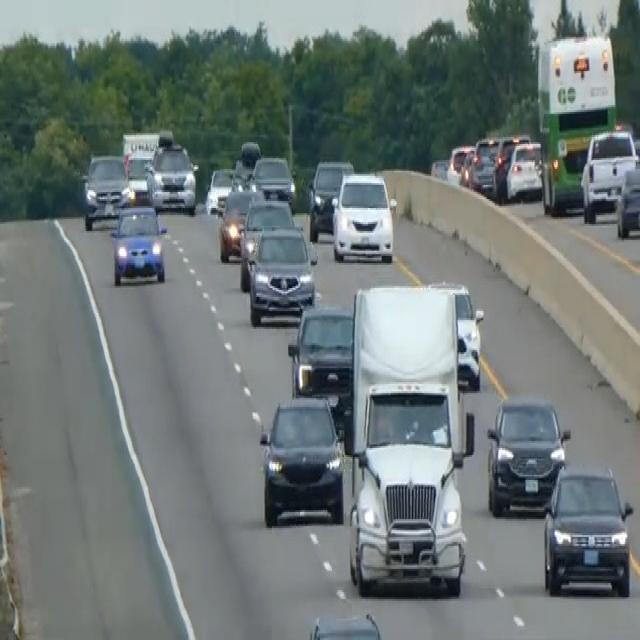bus: (535, 32, 618, 215)
car: (542, 462, 633, 598), (258, 393, 344, 526), (485, 393, 569, 515), (287, 300, 354, 426), (246, 224, 316, 325), (426, 278, 484, 390), (331, 169, 396, 263), (579, 125, 639, 222), (238, 196, 295, 290), (110, 199, 167, 286), (307, 156, 354, 240), (147, 139, 197, 213), (82, 151, 128, 229), (216, 183, 254, 261), (250, 153, 296, 211), (492, 133, 529, 201), (504, 137, 543, 201), (468, 133, 501, 194), (615, 164, 639, 238), (204, 164, 234, 215), (125, 147, 153, 201), (233, 137, 261, 183), (446, 142, 473, 185)
lorry: (343, 281, 476, 597)
